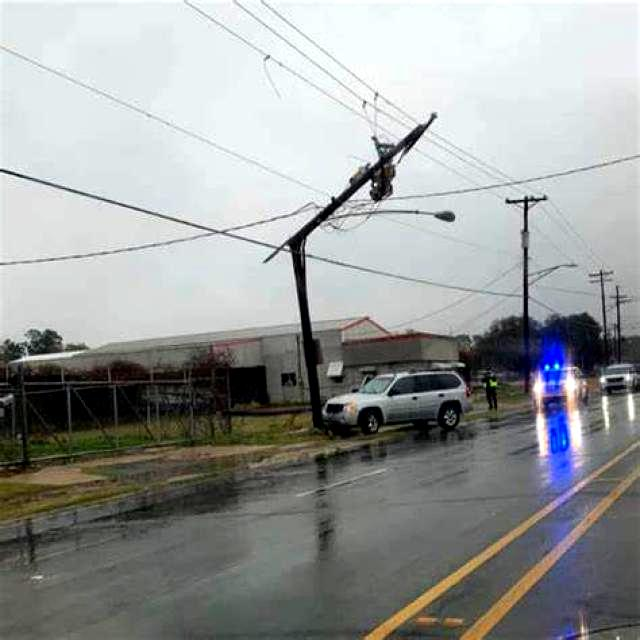Broken Pole: (270, 94, 481, 433)
